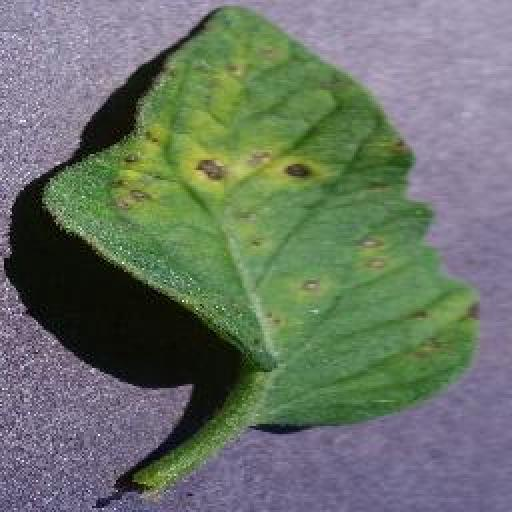Septoria: (47, 2, 479, 426)
